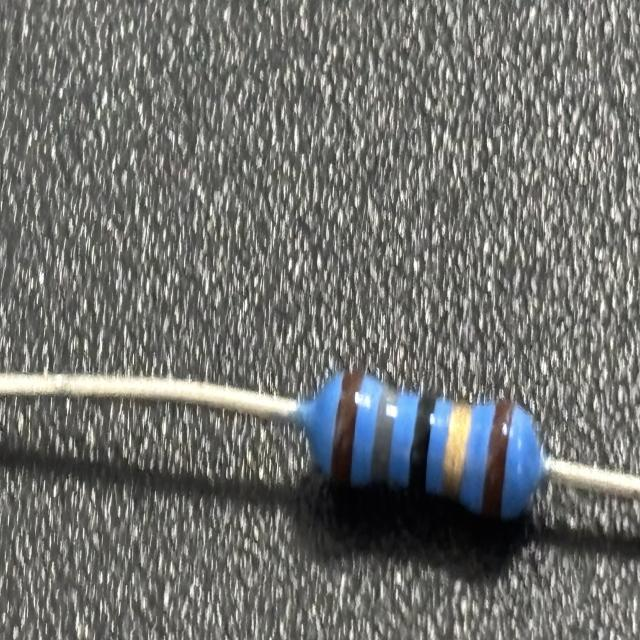resistor: (315, 359, 539, 528)
